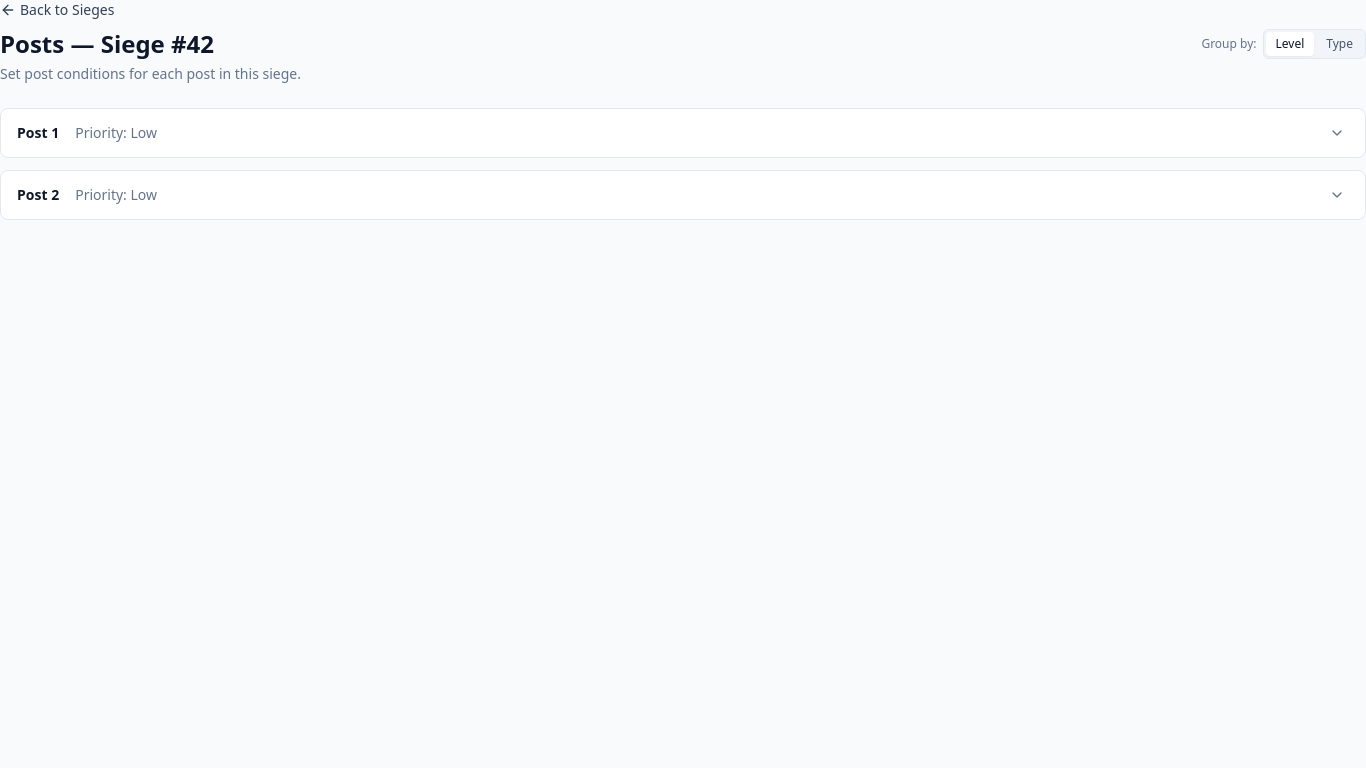
it: PostsPage — master Toggle All override (issue #377) › flipping master propagates to all currently-expanded rows simultaneously
The image size is (1366, 768).
Click the 1st button: coordinates (1337, 133) [1325, 121, 1349, 145]
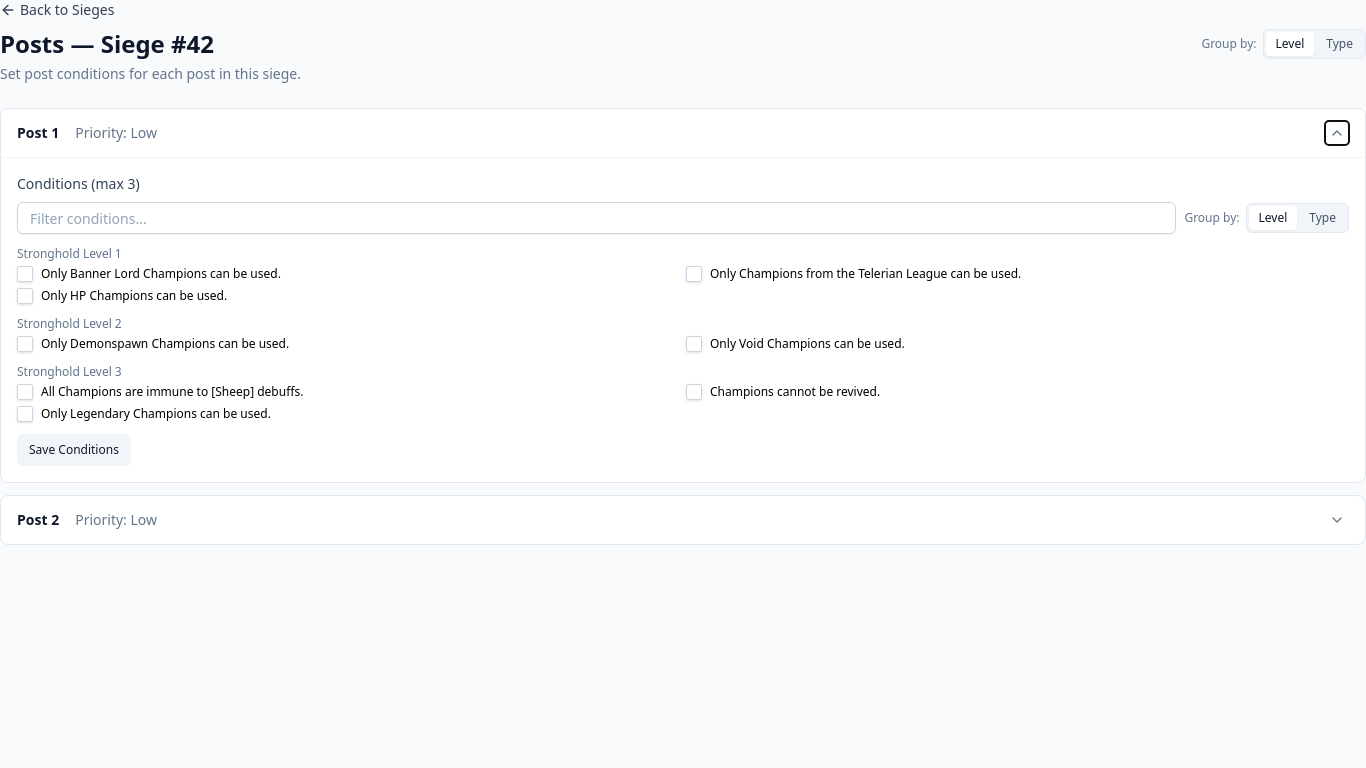
Click the 3rd button: coordinates (1337, 520) [1325, 508, 1349, 532]
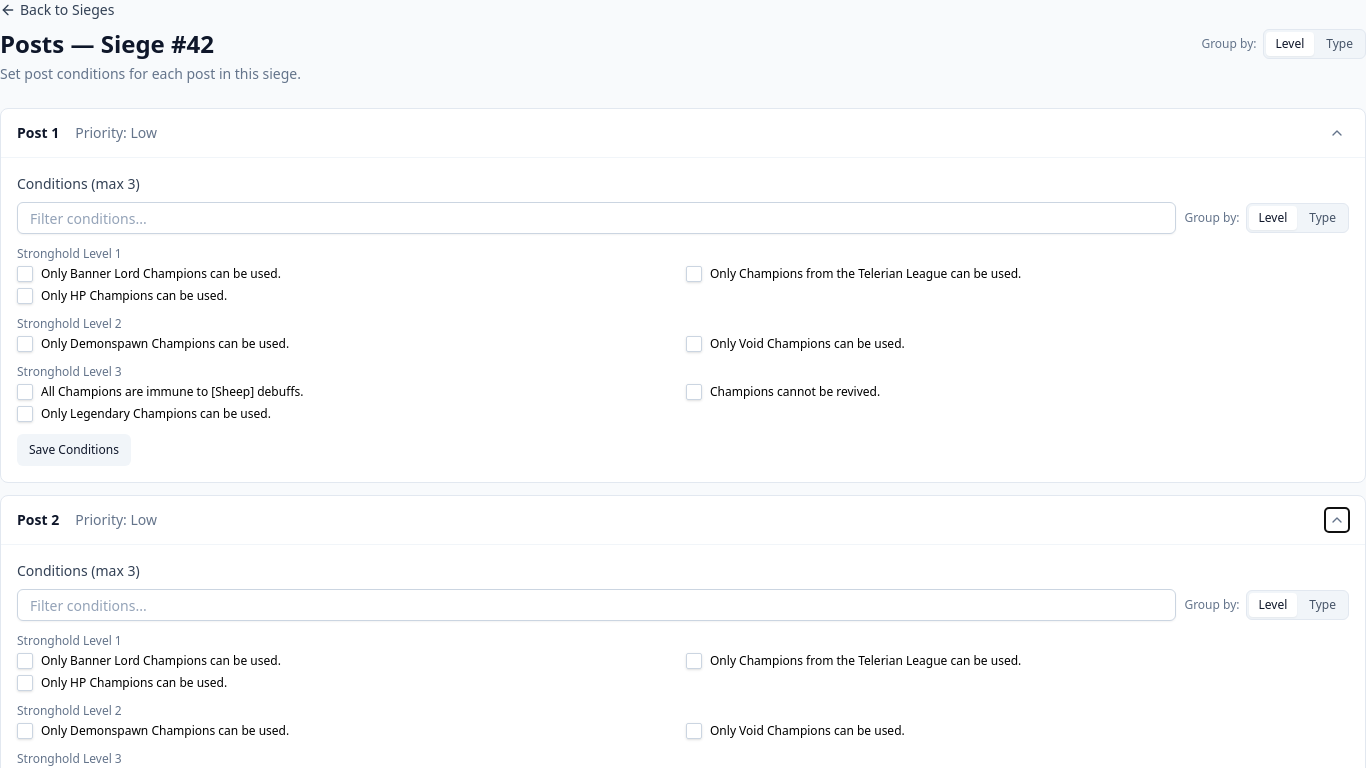
Click the radio button labelled "Type" in the row of "42": coordinates (1340, 44) [1316, 32, 1363, 56]
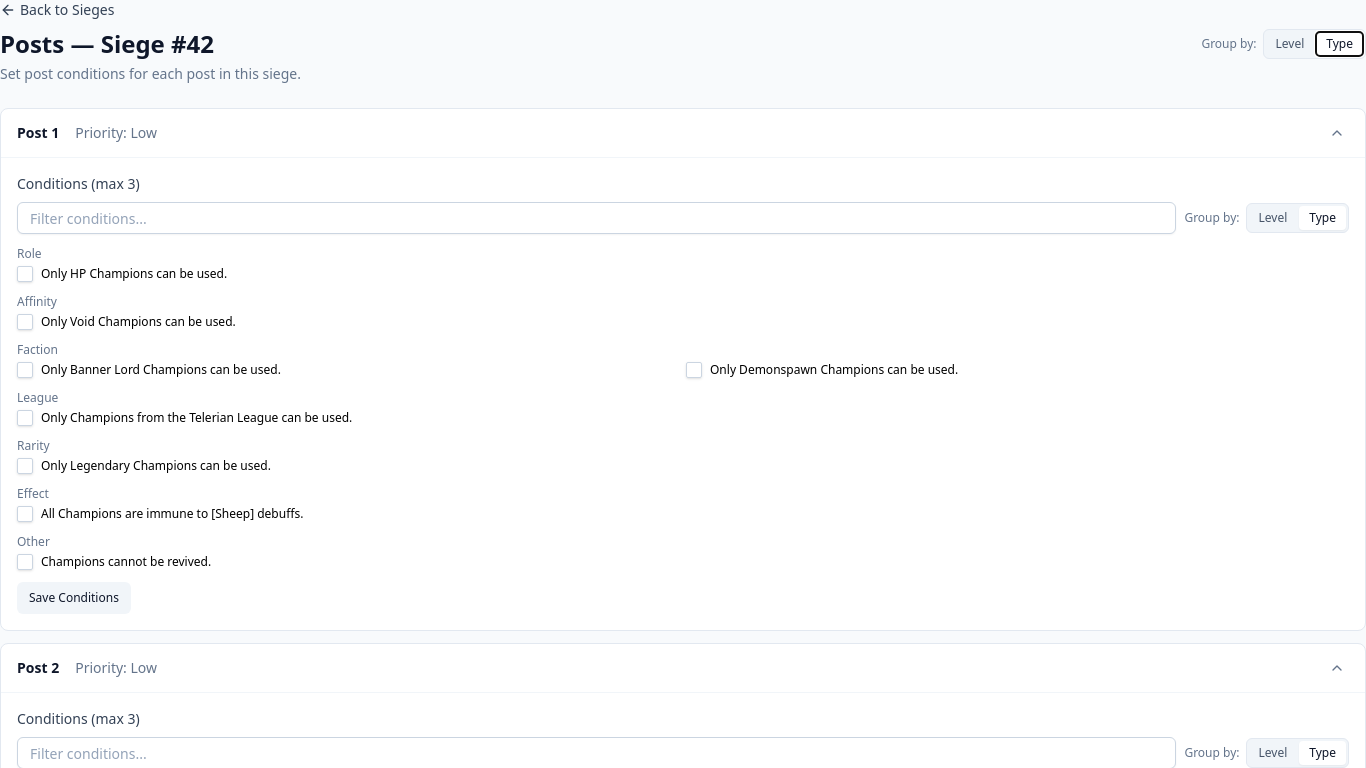
Result: the text "Stronghold Level" is gone
